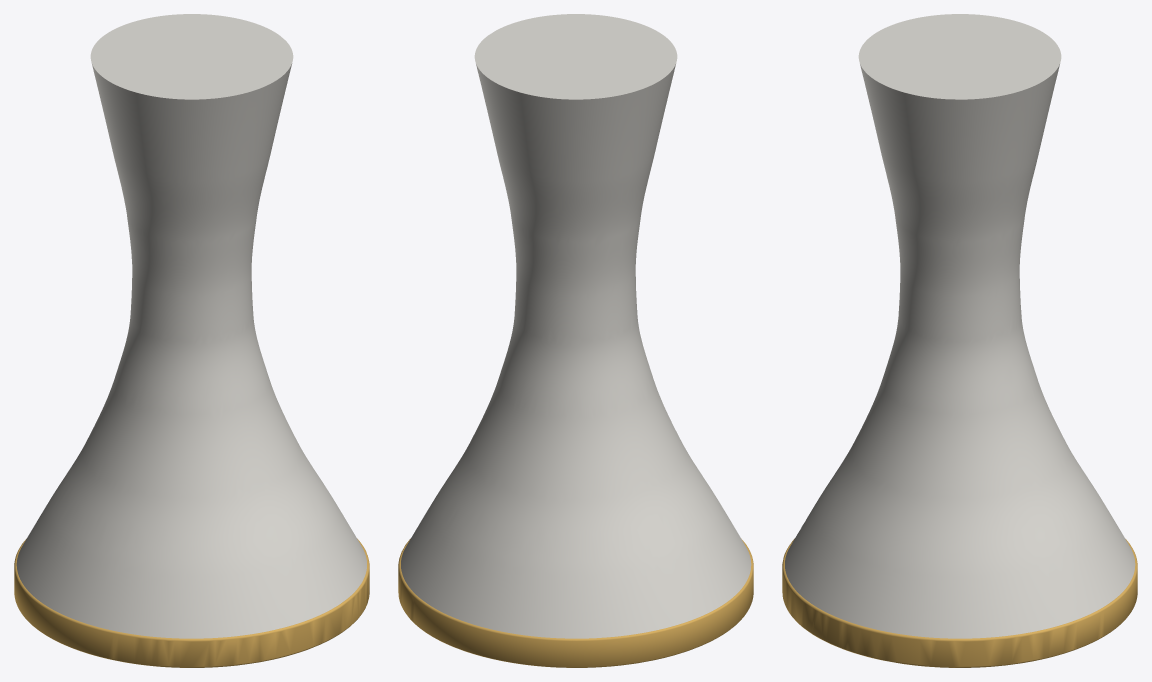
Rendered from pawn-white-hd.glb.
The picture shows the model from 3 angles, left to right: view 1: azimuth 30°, elevation 25°; view 2: azimuth 150°, elevation 25°; view 3: azimuth 270°, elevation 25°; orthographic projection.
Parts seen in each view (by area): view 1: 01_pesec_telo_0, 01_pesec_podstavec; view 2: 01_pesec_telo_0, 01_pesec_podstavec; view 3: 01_pesec_telo_0, 01_pesec_podstavec.
Boxes of the visible parts, x1,y1,x2,y2 form: 01_pesec_telo_0: (16,14,366,638); 01_pesec_podstavec: (14,538,369,667); 01_pesec_telo_0: (401,14,751,638); 01_pesec_podstavec: (398,538,753,667); 01_pesec_telo_0: (785,14,1135,638); 01_pesec_podstavec: (782,538,1137,667).
Bounding box in the file's own units: 0.6898 × 1.15 × 0.6898.
